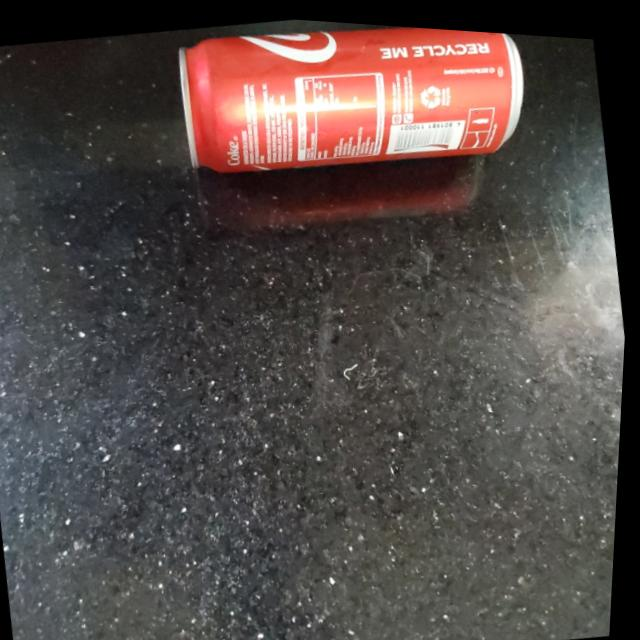coke: (168, 9, 537, 193)
